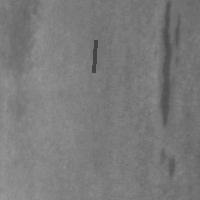inclusion: (155, 1, 184, 130), (155, 143, 177, 180), (91, 38, 97, 74)
